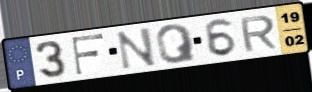3: (34, 40, 69, 79)
6: (204, 17, 238, 59)
F: (70, 32, 106, 77)
N: (114, 26, 158, 72)
Q: (154, 22, 199, 65)
R: (238, 14, 280, 54)
